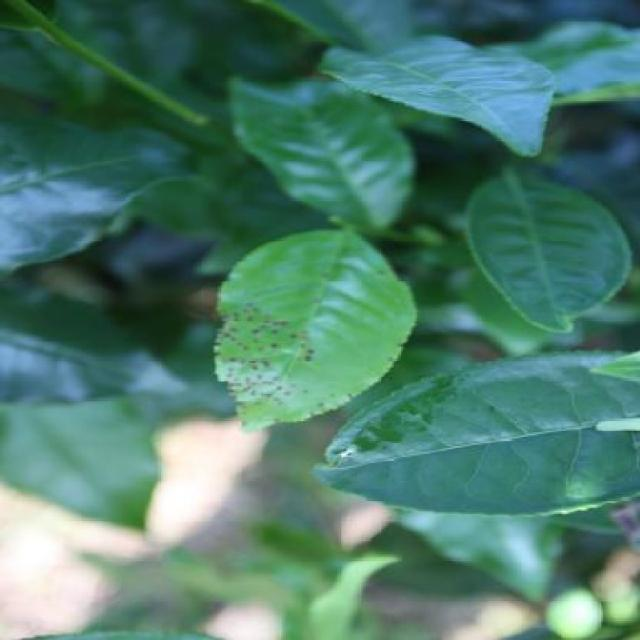Tea Mosquito bug infested leaf: (192, 222, 410, 466)
